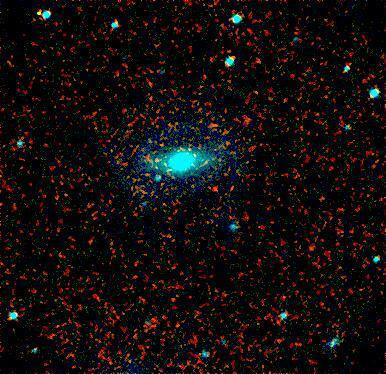star: (182, 141, 212, 171)
